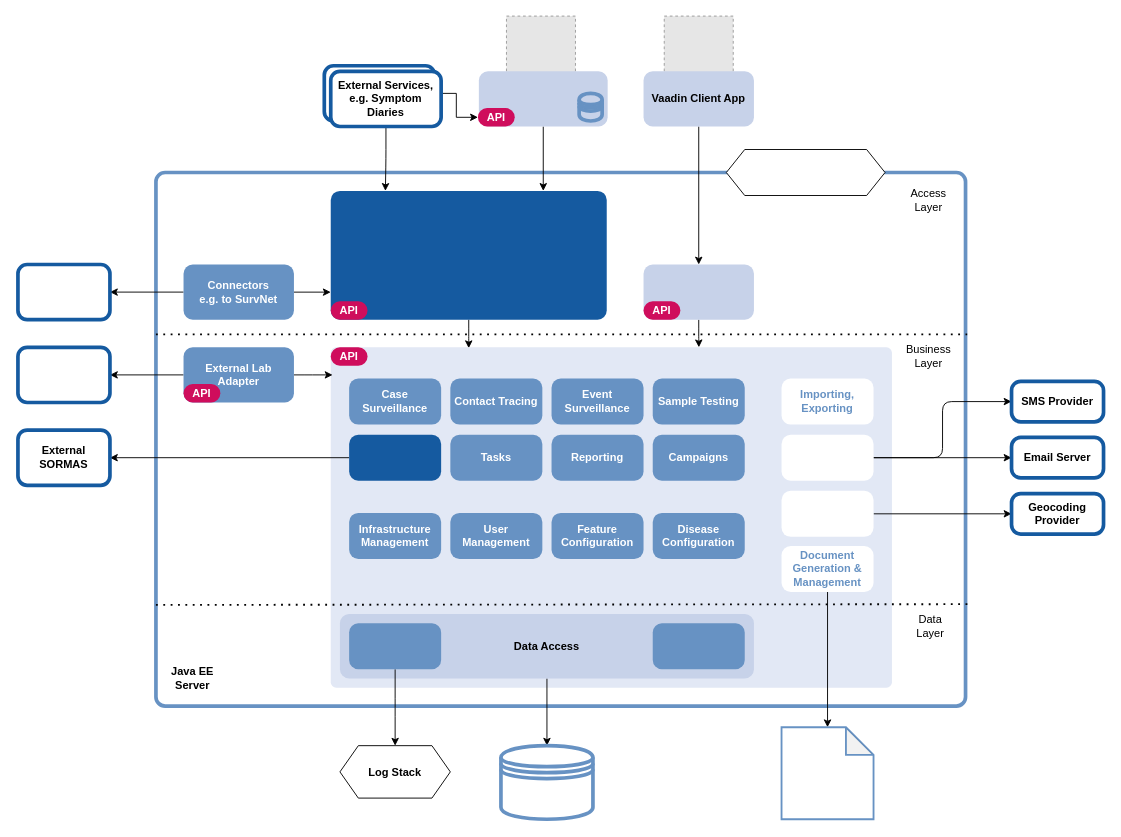
Some shapes in this 1121 by 837 pixel diagram are drawn without their labels. Grey dashed boxes stand in for pictures. The shapes that lost their labels are listed below. From the top down, each one's box as (x1, y1, x2, y2) in pixels, then its label:
(478, 71, 607, 126): Android App
(725, 149, 885, 196): keycloak Authentication
(330, 190, 606, 319): SORMAS ReST
(16, 262, 111, 321): External System
(643, 264, 753, 319): Vaadin Server Side
(16, 345, 111, 404): Lab Result Provider (e.g. DEMIS)
(349, 434, 441, 480): SORMAS 2 SORMAS
(781, 434, 873, 480): Messaging
(330, 347, 891, 687): SORMAS Backend
(781, 490, 873, 536): Geocoding
(349, 623, 441, 669): Auditing
(652, 623, 744, 669): Pseudonym-ization
(499, 743, 594, 821): SORMAS Postgres DB
(780, 726, 874, 820): Document Storage
